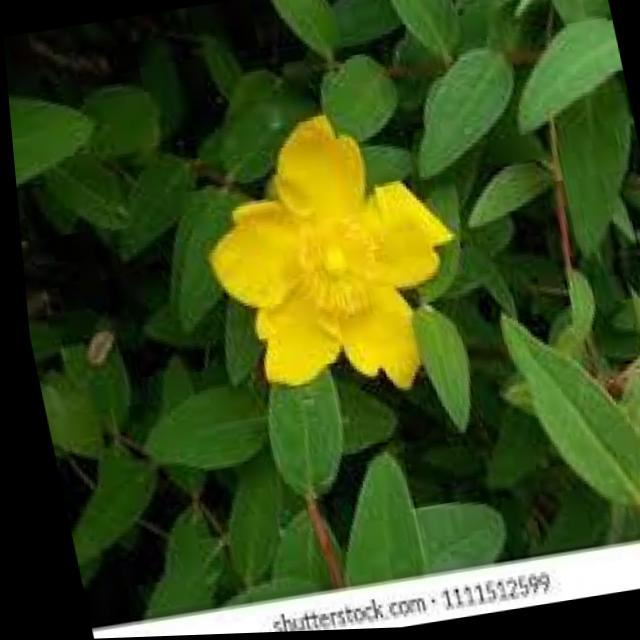Flower: (179, 94, 480, 415)
